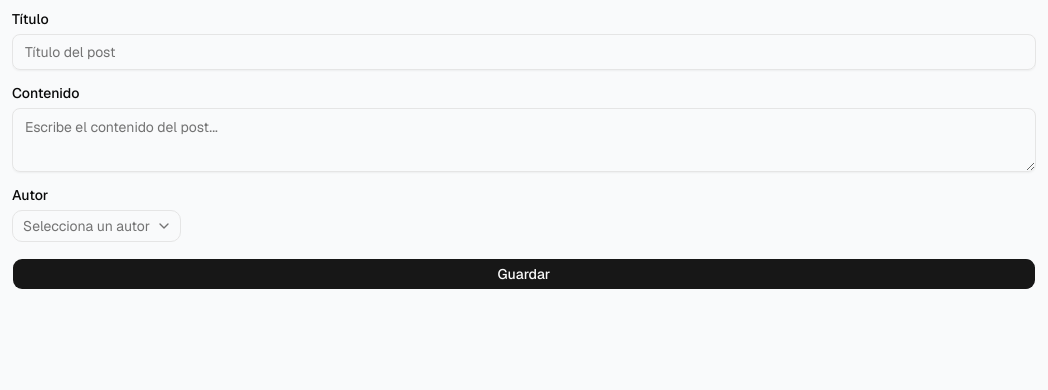
PostForm › muestra errores de validación cuando el formulario está vacío
Click the button "Guardar" at [524, 274], box [12,258,1036,290]
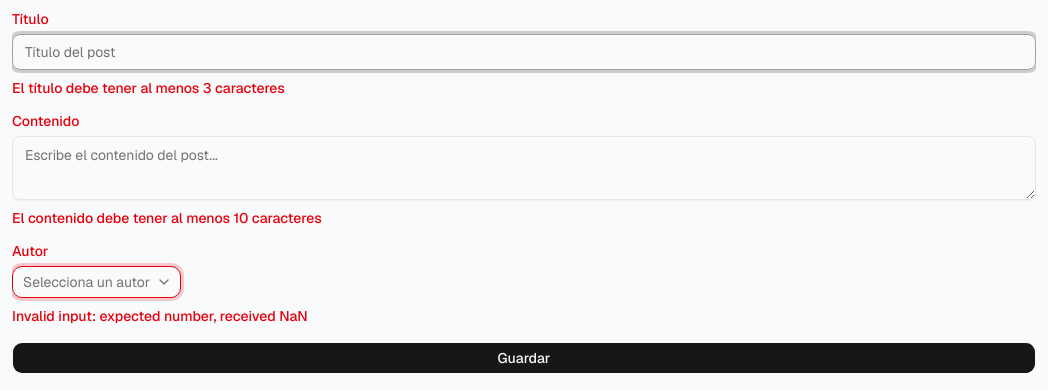
Result: the text "El título debe tener al menos 3 caracteres" is shown at [12,79,285,97]
